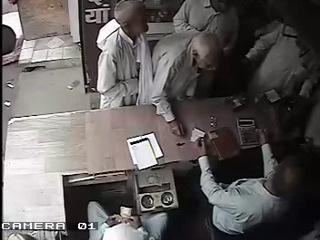Normal: (196, 130, 312, 240), (148, 0, 240, 137), (172, 0, 215, 33)
shoplifting: (95, 0, 154, 110)
